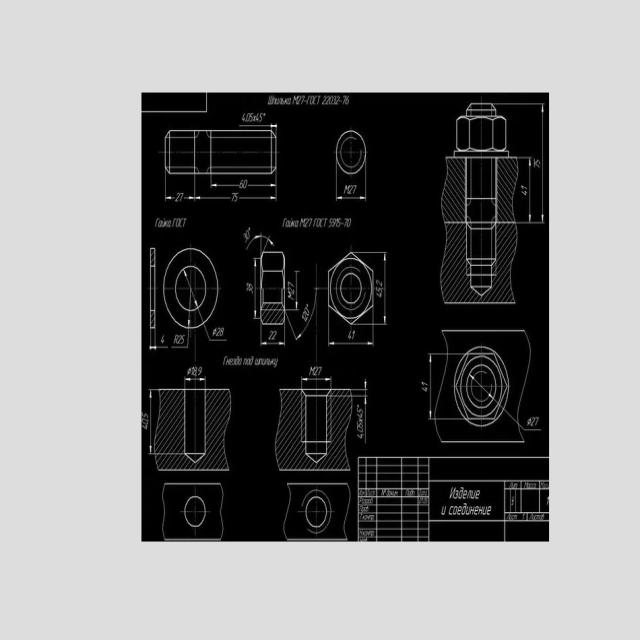marking_line: (519, 102, 545, 226), (193, 174, 278, 200), (286, 290, 317, 342), (353, 380, 368, 446), (326, 326, 375, 346), (374, 251, 387, 326), (518, 157, 532, 225), (336, 174, 367, 203), (164, 175, 197, 202), (209, 175, 277, 188), (286, 270, 300, 312), (260, 325, 286, 346), (184, 270, 198, 307), (246, 234, 275, 250), (253, 258, 260, 320), (149, 329, 168, 351), (428, 353, 434, 420), (301, 377, 332, 389), (148, 389, 153, 456), (184, 376, 207, 389), (239, 123, 277, 130), (187, 311, 191, 327)
numeric: (203, 323, 227, 342), (293, 96, 299, 107), (343, 184, 349, 195), (222, 356, 228, 367), (533, 157, 541, 165), (288, 292, 295, 301), (376, 279, 383, 287), (352, 184, 357, 195), (234, 192, 239, 203), (311, 96, 317, 105), (172, 218, 178, 227), (299, 218, 305, 227), (268, 95, 273, 105), (307, 96, 312, 106), (178, 218, 183, 228), (173, 335, 178, 345), (198, 366, 203, 376), (357, 407, 364, 414), (357, 426, 364, 433), (356, 433, 364, 439), (259, 113, 264, 122), (155, 218, 160, 227), (282, 218, 287, 227), (347, 218, 352, 227), (272, 331, 277, 340), (177, 335, 182, 344), (309, 367, 314, 376), (301, 95, 305, 106), (322, 95, 326, 106), (521, 190, 528, 196), (288, 280, 294, 287), (301, 315, 307, 322), (376, 292, 383, 298), (142, 418, 149, 424), (142, 412, 149, 418), (356, 421, 363, 427), (255, 112, 259, 122), (329, 95, 333, 105), (239, 179, 243, 189), (295, 220, 300, 228), (304, 218, 308, 228), (329, 218, 333, 228), (332, 217, 336, 227), (246, 230, 250, 240), (303, 311, 308, 319), (268, 330, 272, 340), (375, 287, 383, 292), (235, 356, 239, 366), (250, 356, 254, 366), (263, 358, 268, 366), (314, 366, 318, 376), (246, 113, 250, 122), (249, 113, 253, 122), (346, 96, 350, 105), (317, 95, 321, 104), (244, 179, 248, 188), (183, 219, 187, 228), (313, 218, 317, 227), (316, 218, 320, 227), (324, 218, 328, 227), (344, 218, 348, 227), (243, 234, 247, 243), (305, 307, 309, 316), (347, 330, 351, 339), (220, 327, 224, 336), (274, 359, 278, 368), (318, 366, 322, 375), (422, 381, 428, 387), (531, 417, 535, 426), (535, 417, 539, 426), (533, 163, 540, 168), (245, 288, 252, 293), (287, 288, 294, 293), (349, 184, 352, 195), (326, 96, 330, 104), (284, 98, 288, 106), (290, 220, 294, 228), (246, 358, 250, 366), (298, 95, 301, 105), (521, 185, 527, 190), (231, 193, 234, 203), (176, 192, 179, 202), (159, 221, 164, 227), (247, 283, 253, 288), (352, 330, 355, 340), (182, 334, 185, 344), (142, 425, 148, 430), (421, 387, 427, 392), (167, 220, 171, 227), (287, 220, 291, 227), (258, 358, 262, 365), (242, 113, 245, 122), (343, 96, 346, 105), (336, 95, 339, 104), (333, 96, 336, 105), (180, 192, 183, 201), (309, 218, 312, 227), (320, 218, 323, 227), (335, 218, 338, 227), (338, 219, 341, 228), (217, 328, 220, 337), (161, 335, 164, 344), (194, 367, 197, 376), (191, 367, 194, 375), (244, 358, 247, 366), (239, 358, 242, 366), (232, 358, 235, 366), (255, 359, 259, 365), (271, 359, 274, 367), (268, 358, 271, 366), (357, 414, 363, 418), (274, 98, 277, 105), (277, 98, 280, 105), (288, 98, 291, 105), (280, 98, 283, 105), (164, 220, 167, 227), (226, 358, 229, 365), (230, 359, 232, 366)
special_symbol: (211, 327, 217, 336), (526, 418, 532, 426), (187, 367, 192, 376), (252, 116, 256, 122), (358, 417, 363, 421), (263, 113, 266, 117), (248, 227, 251, 231), (306, 304, 309, 308), (357, 404, 360, 408), (304, 100, 307, 102), (164, 218, 166, 220)
